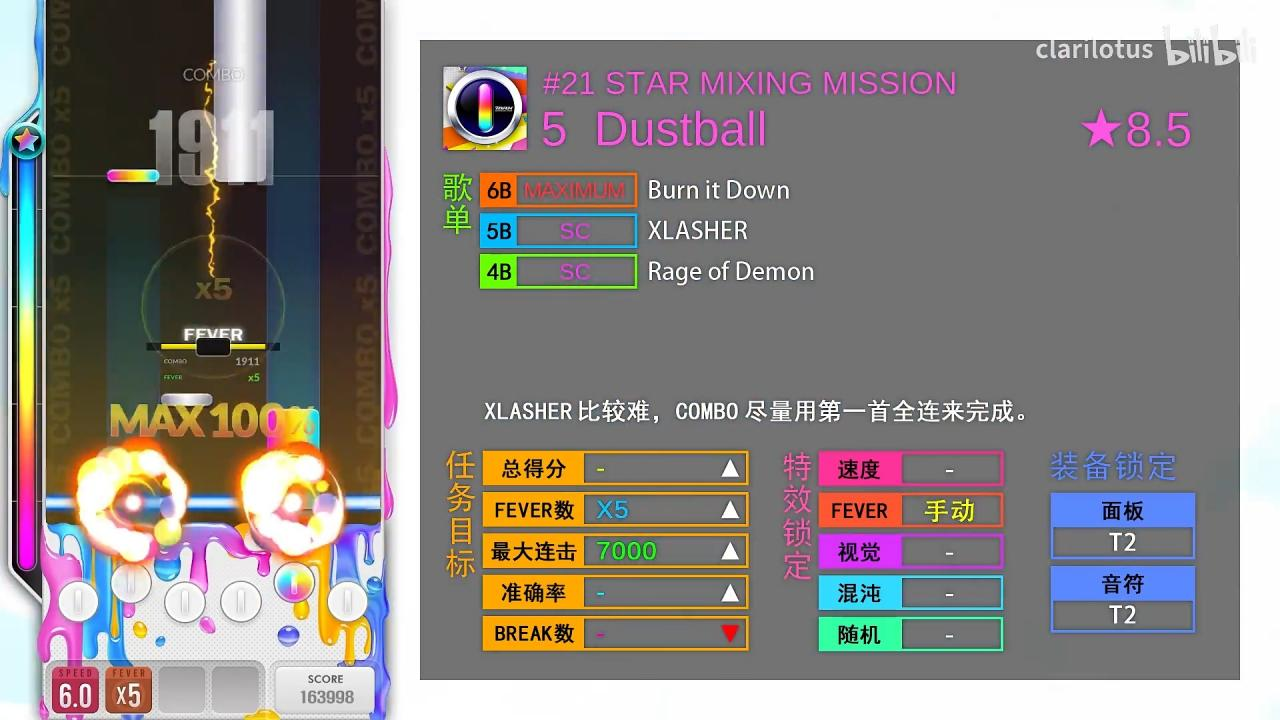hold-end: (266, 408, 320, 421)
hold-start: (213, 171, 266, 183)
note: (161, 393, 212, 406), (107, 170, 160, 182)
